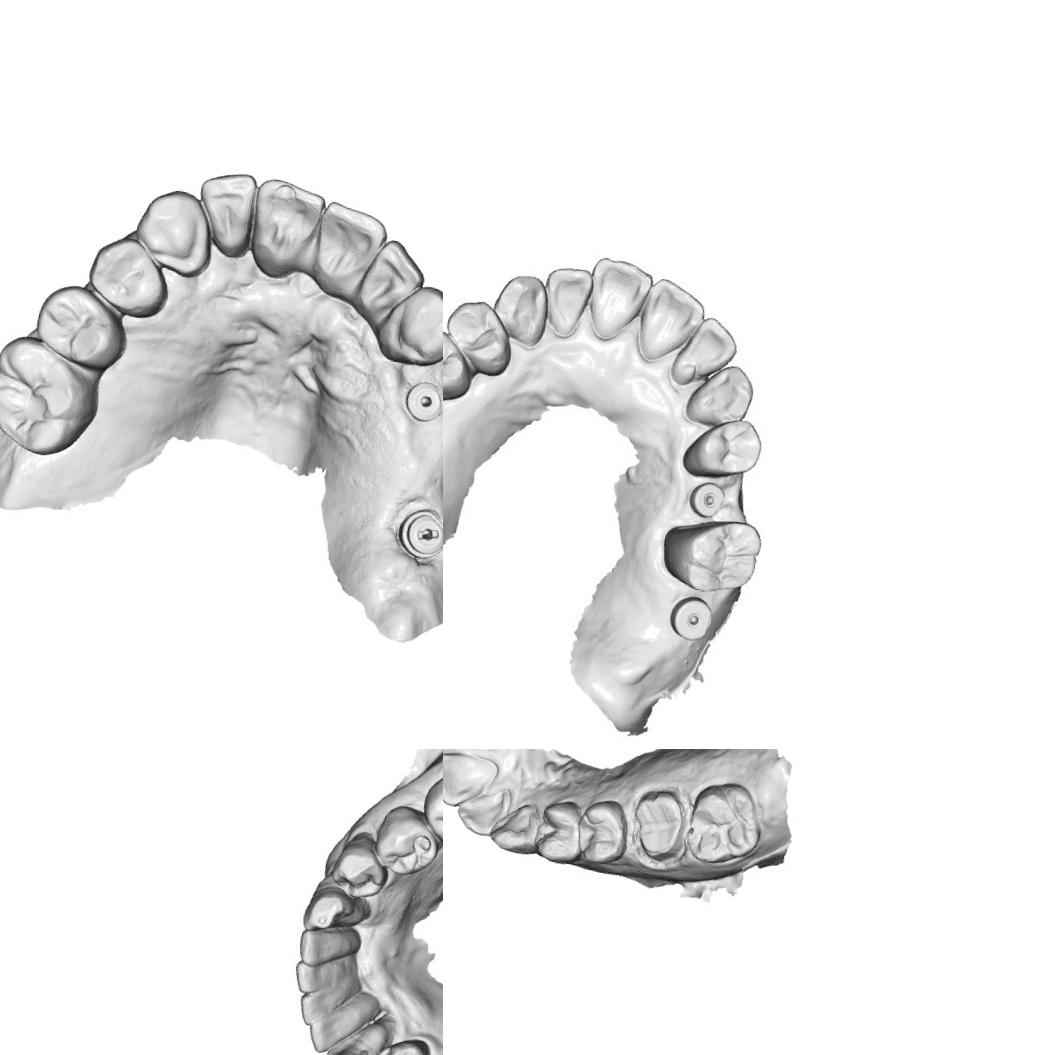canine: (129, 184, 220, 280), (371, 278, 443, 374), (489, 267, 556, 349), (686, 358, 758, 432), (484, 796, 544, 861), (302, 884, 373, 938), (322, 1012, 397, 1055)
crown: (626, 782, 692, 866)
implant: (664, 592, 717, 644), (401, 376, 443, 436), (684, 476, 731, 520)
implant_minus: (400, 504, 443, 564)
incisor: (245, 178, 321, 276), (308, 200, 382, 300), (629, 276, 707, 368), (582, 254, 652, 347), (196, 170, 268, 258), (670, 312, 742, 392), (364, 236, 429, 312), (538, 264, 594, 342), (305, 997, 377, 1055), (448, 780, 512, 842), (443, 749, 504, 814), (300, 979, 374, 1031), (294, 948, 364, 994), (300, 924, 363, 967)
molar: (0, 328, 108, 462), (661, 512, 772, 598), (679, 776, 767, 872), (423, 762, 443, 849)
premolar: (28, 280, 134, 375), (81, 231, 174, 322), (680, 412, 768, 486), (443, 295, 516, 379), (374, 800, 439, 875), (330, 833, 394, 906), (574, 794, 631, 869), (534, 796, 591, 868), (443, 323, 479, 406), (375, 1035, 426, 1055)
